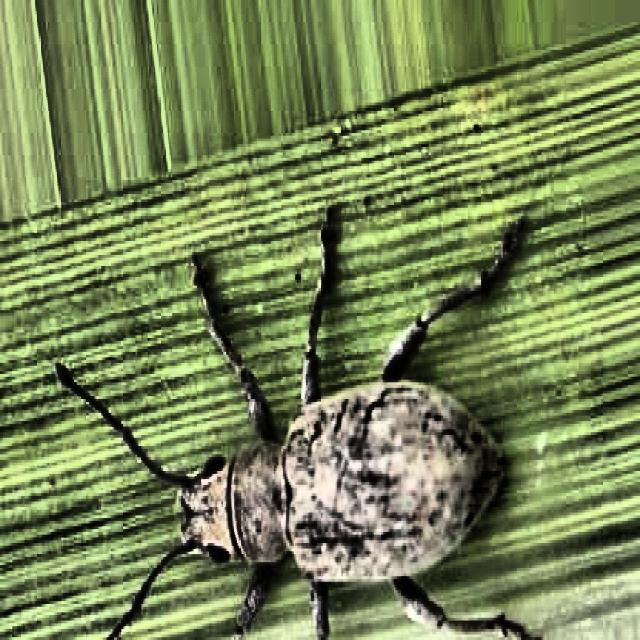Stink bug: (45, 307, 595, 640)
